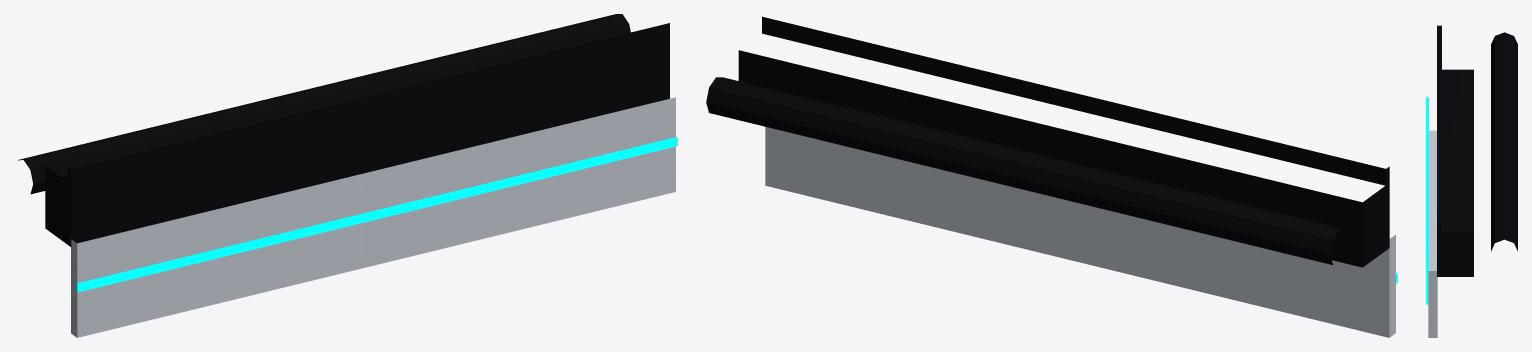
File: tt_struct_roof_edge_chord.glb
3 views of the same model, side by side, from view 1: azimuth 30°, elevation 25°; view 2: azimuth 150°, elevation 25°; view 3: azimuth 270°, elevation 25° (orthographic). The views are drawn at different scales.
Parts seen in each view (by area): view 1: Fascia, Gutter, Edge_Chord, Edge_LED; view 2: Fascia, Gutter, Edge_Chord; view 3: Gutter, Edge_Chord, Fascia, Edge_LED.
Boxes of the visible parts, x1,y1,x2,y2 form: Fascia: (71,97,675,337); Gutter: (45,23,669,246); Edge_Chord: (17,14,630,194); Edge_LED: (77,137,677,291); Fascia: (765,127,1395,337); Gutter: (738,16,1389,267); Edge_Chord: (706,77,1346,264); Gutter: (1437,25,1473,276); Edge_Chord: (1491,32,1517,251); Fascia: (1428,130,1437,337); Edge_LED: (1426,97,1428,304).
Size of the model in its own units: 4 by 1.05 by 0.75.
3 materials, 2 textured.
